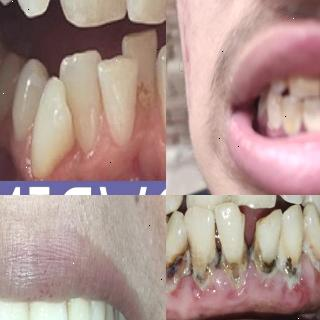Gum Swelling: (166, 250, 318, 311)
calculus: (277, 233, 304, 291), (248, 237, 276, 286), (167, 244, 194, 292), (223, 251, 252, 295), (197, 249, 220, 291), (305, 228, 320, 286), (283, 101, 307, 134), (265, 99, 283, 133), (288, 78, 319, 96), (304, 99, 320, 132)
maligned: (52, 47, 106, 147), (94, 54, 142, 146), (25, 73, 67, 175), (120, 28, 162, 122), (210, 195, 248, 279), (185, 202, 222, 278), (302, 199, 320, 273), (235, 195, 278, 214)
plaque: (57, 285, 76, 320), (82, 293, 106, 320)
